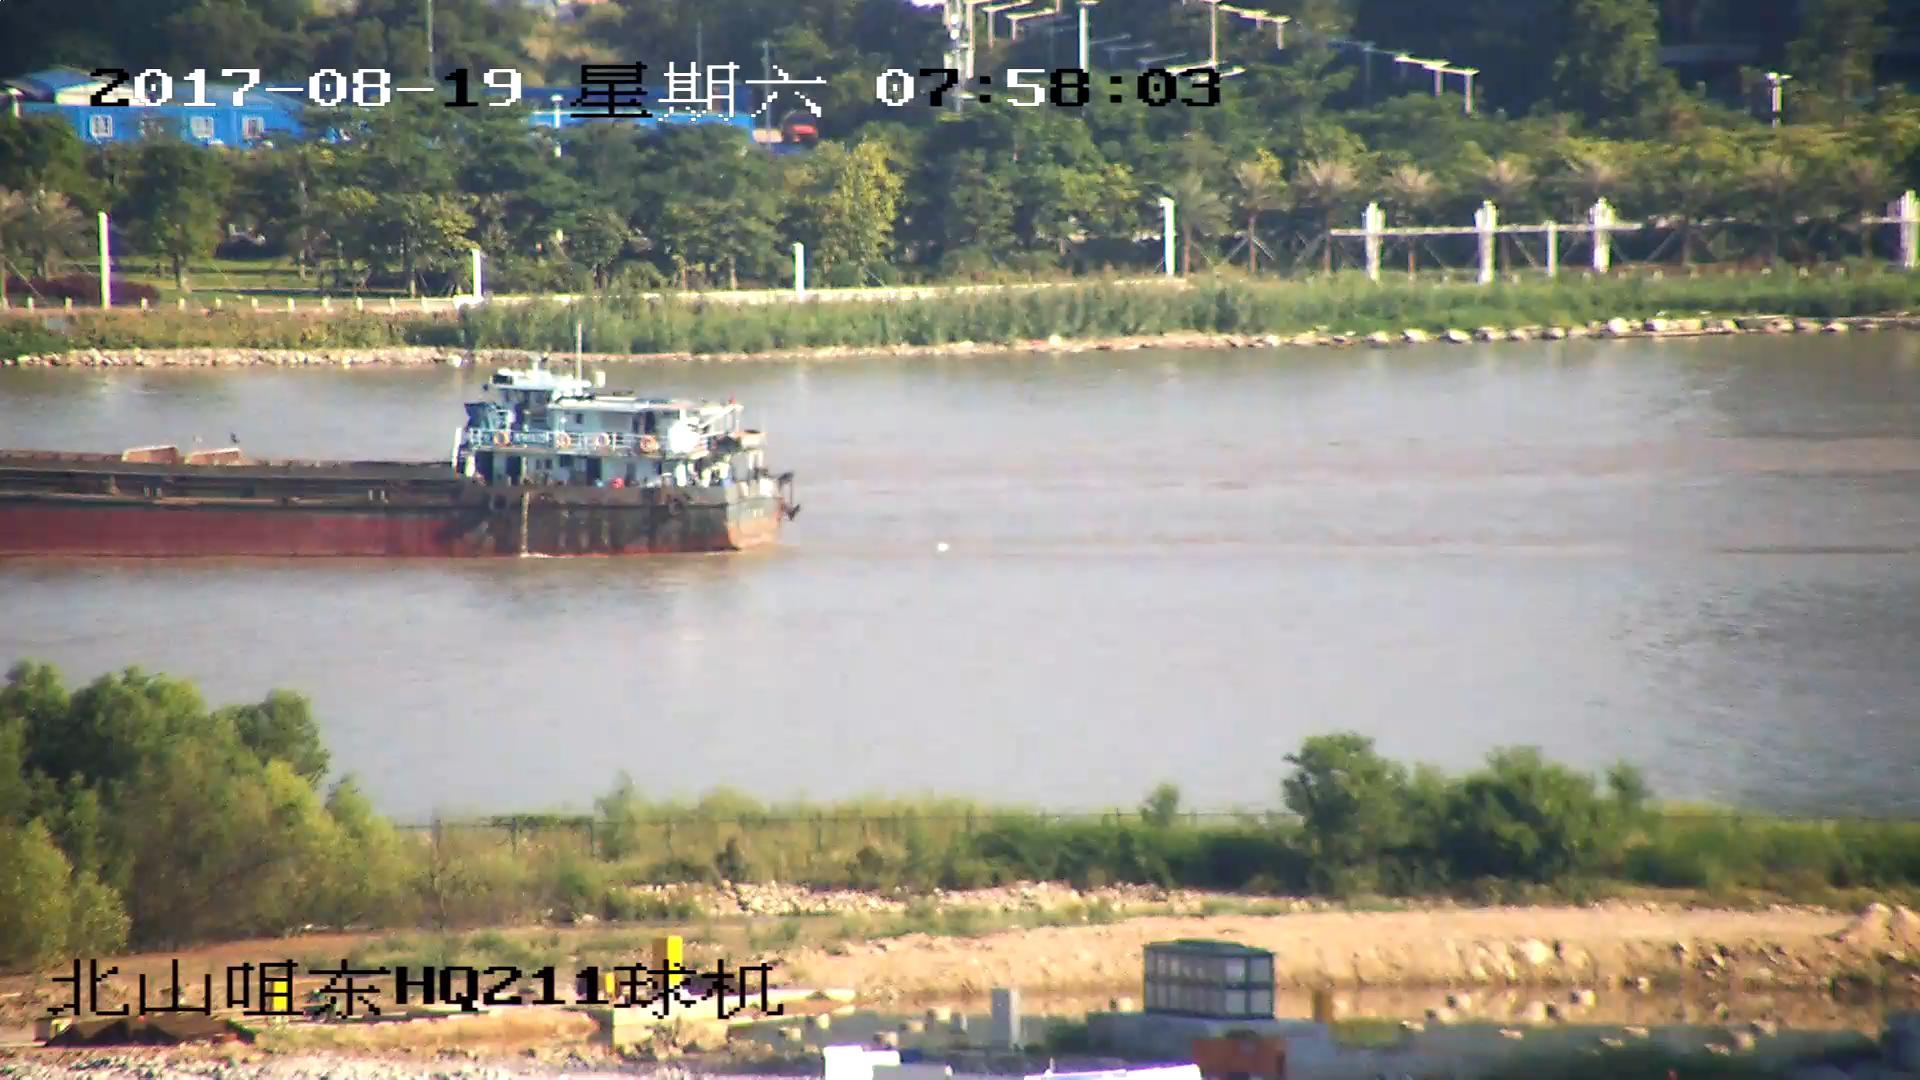bulk cargo carrier: (1, 351, 797, 555)
